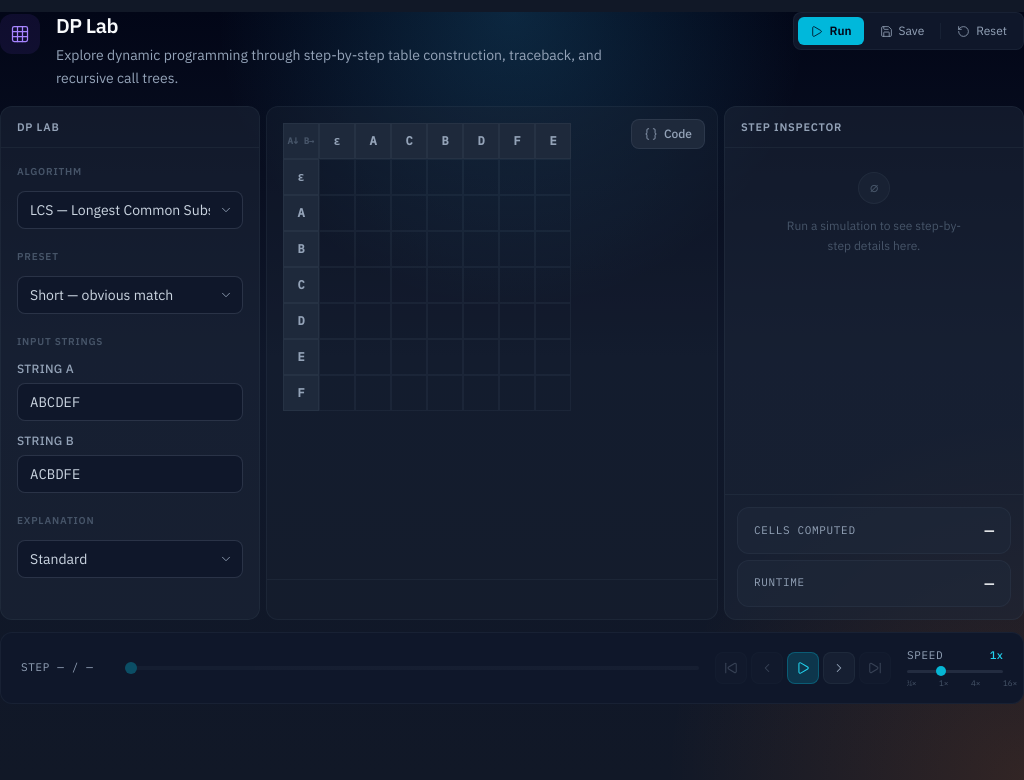
Test: DpLabPage — LCS preset dropdown from API › populates string fields when selecting a different LCS preset
Select "Medium strings" in the dropdown named "Preset" at (130, 295), box [17,276,243,314]
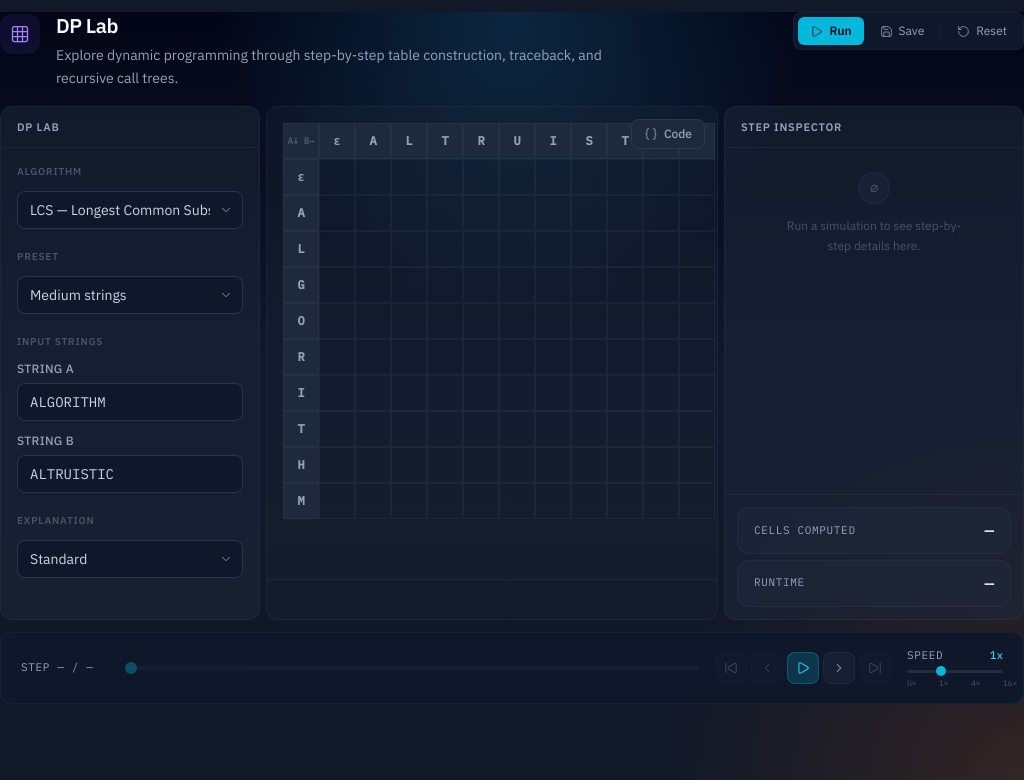
Expected: the field named "String A" holds "ALGORITHM", [17,383,243,421]
Expected: the field named "String B" holds "ALTRUISTIC", [17,455,243,493]
